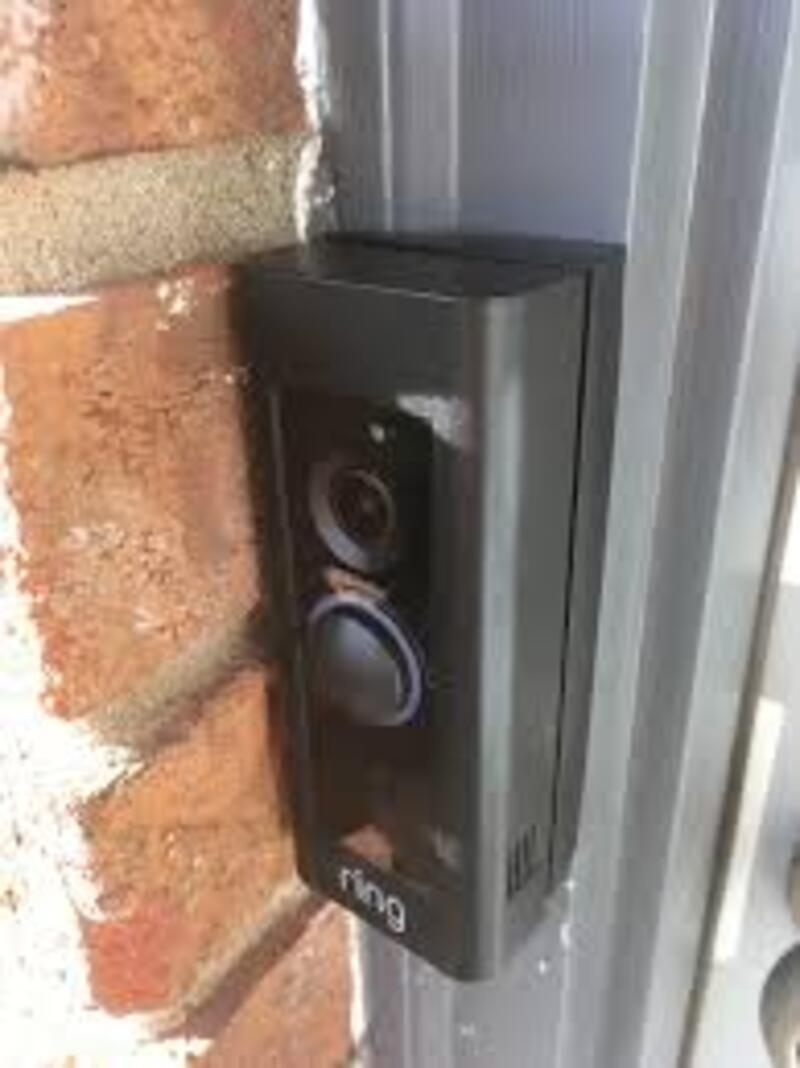doorbell: (215, 227, 610, 983)
